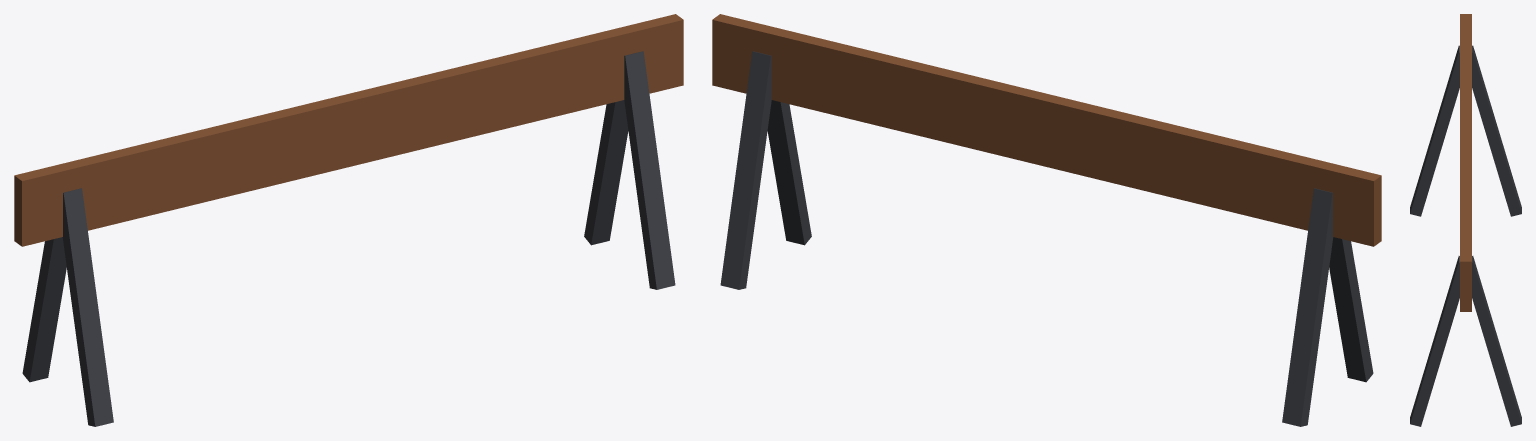
The model's file is Schranke_Einzelobjekt.fbx.
3 renders of one model, left to right at view 1: azimuth 30°, elevation 25°; view 2: azimuth 150°, elevation 25°; view 3: azimuth 270°, elevation 25°, orthographic. The views are drawn at different scales.
Parts seen in each view (by area): view 1: Cube.021; view 2: Cube.021; view 3: Cube.021.
Boxes of the visible parts, x1,y1,x2,y2 form: Cube.021: [14, 14, 683, 426]; Cube.021: [712, 14, 1381, 426]; Cube.021: [1410, 14, 1521, 426].
Bounding box in the file's own units: 205 × 69.82 × 39.17.
